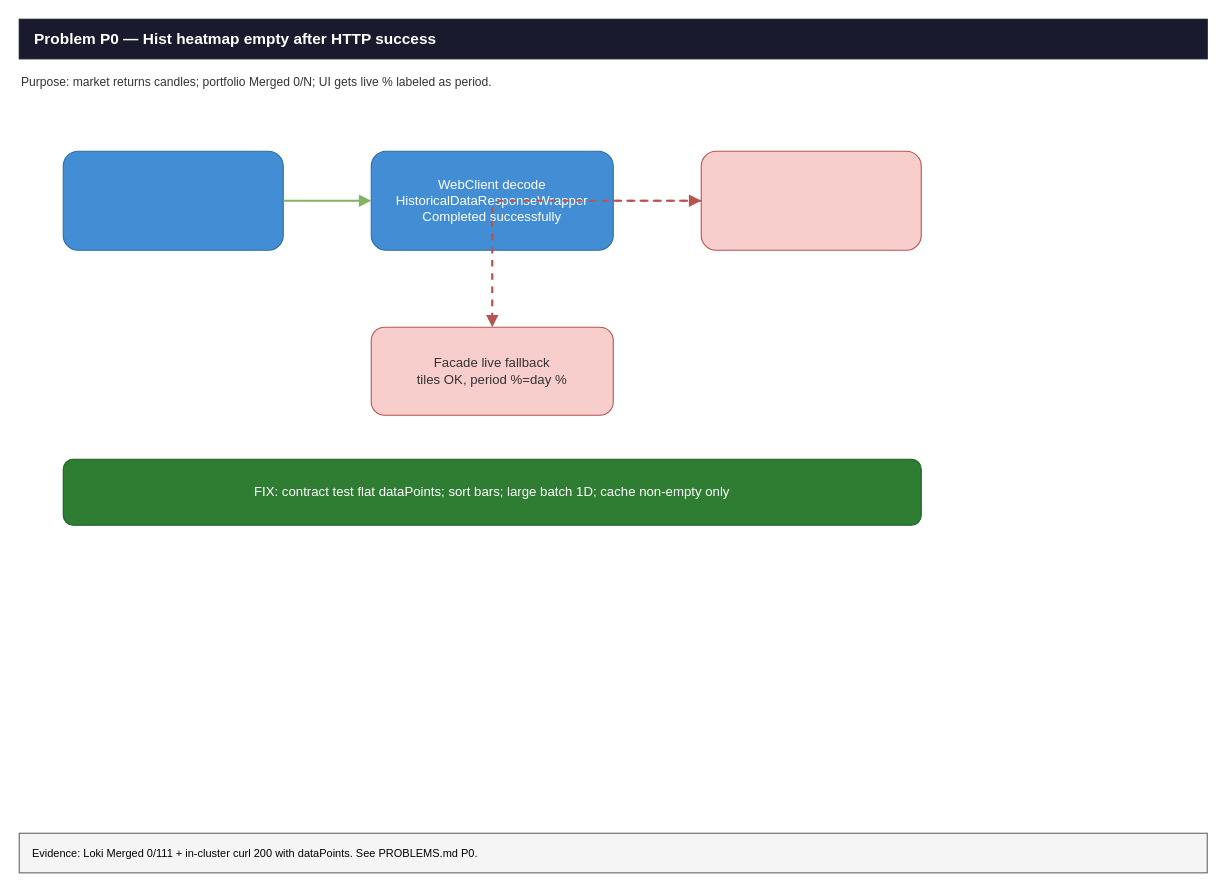
Image size: 1227x892. Some labels were removed from this diagram. The centre of each missing label's shape, as x and y in pixels:
am-market-data START_END JSON OK ~1–6s / batch: the point at 172,200
Convert → MarketData pts=0 / null Merged 0/111: the point at 810,200
